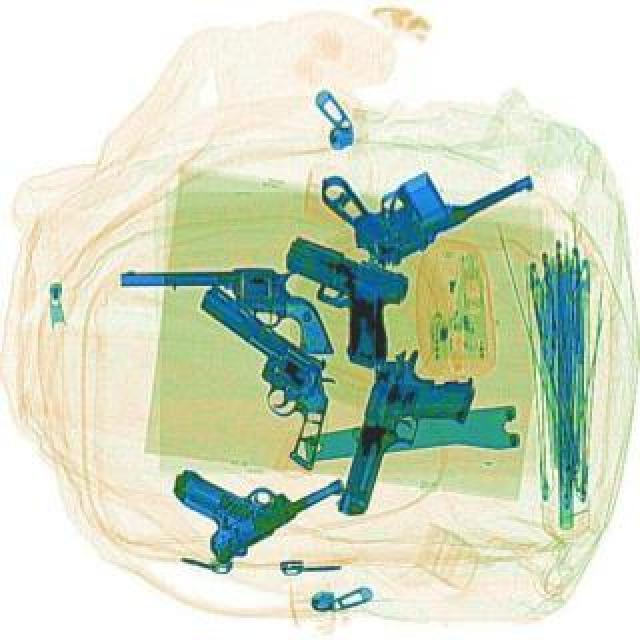gun: (148, 276, 374, 470), (310, 94, 536, 274), (160, 404, 352, 566), (334, 338, 482, 532), (250, 232, 418, 370), (118, 266, 334, 354)
